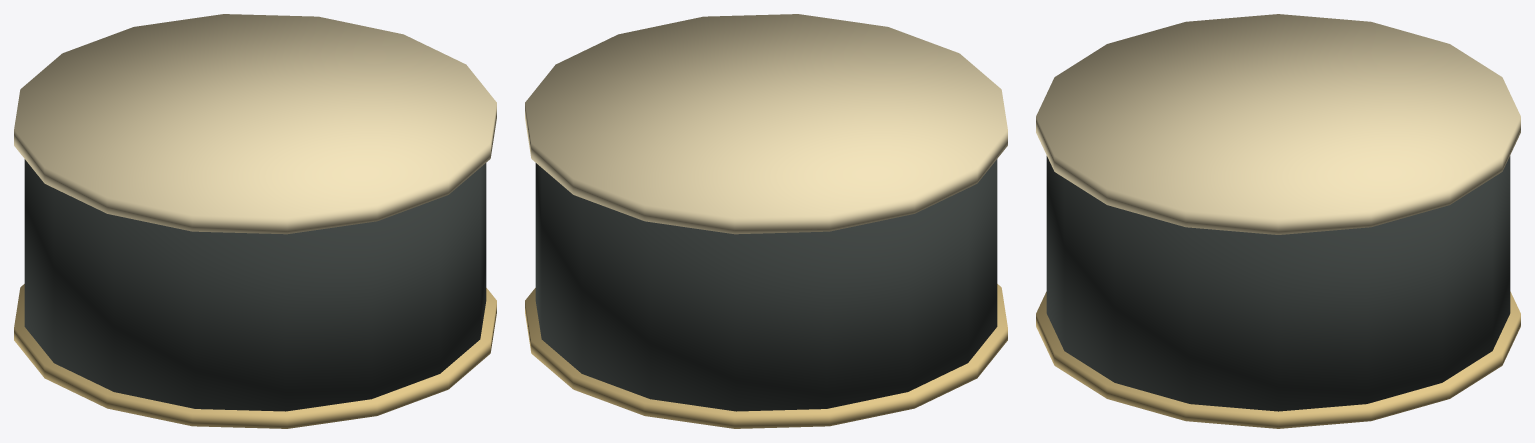
File: podium-single.glb
The picture shows the model from 3 angles, left to right: view 1: azimuth 30°, elevation 25°; view 2: azimuth 150°, elevation 25°; view 3: azimuth 270°, elevation 25°; orthographic projection.
Visible parts, largest first — view 1: upper-rim-1, body-0, lower-rim-2; view 2: upper-rim-1, body-0, lower-rim-2; view 3: upper-rim-1, body-0, lower-rim-2.
Boxes of the visible parts, x1,y1,x2,y2 form: upper-rim-1: [14, 14, 496, 234]; body-0: [24, 159, 486, 411]; lower-rim-2: [14, 284, 496, 428]; upper-rim-1: [525, 14, 1007, 234]; body-0: [535, 159, 997, 411]; lower-rim-2: [525, 284, 1007, 428]; upper-rim-1: [1036, 14, 1520, 234]; body-0: [1046, 156, 1510, 411]; lower-rim-2: [1036, 291, 1520, 428].
Size of the model in its own units: 1.36 by 0.65 by 1.36.
